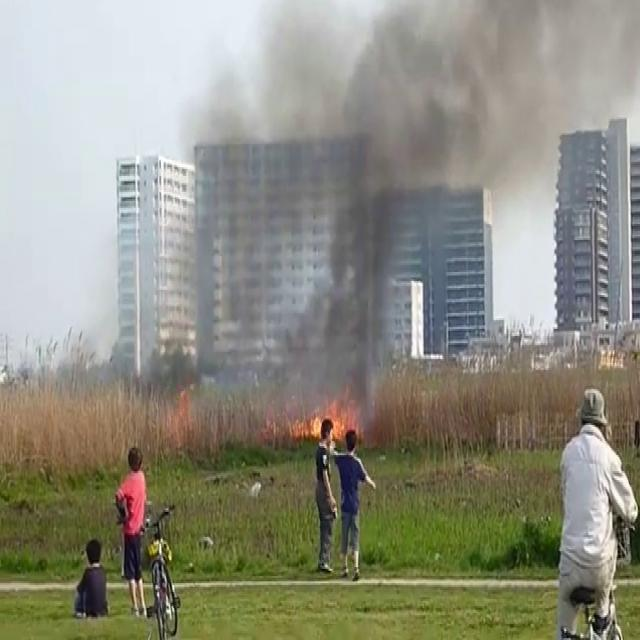Fire: (288, 392, 362, 449)
Smoke: (201, 0, 554, 418)
